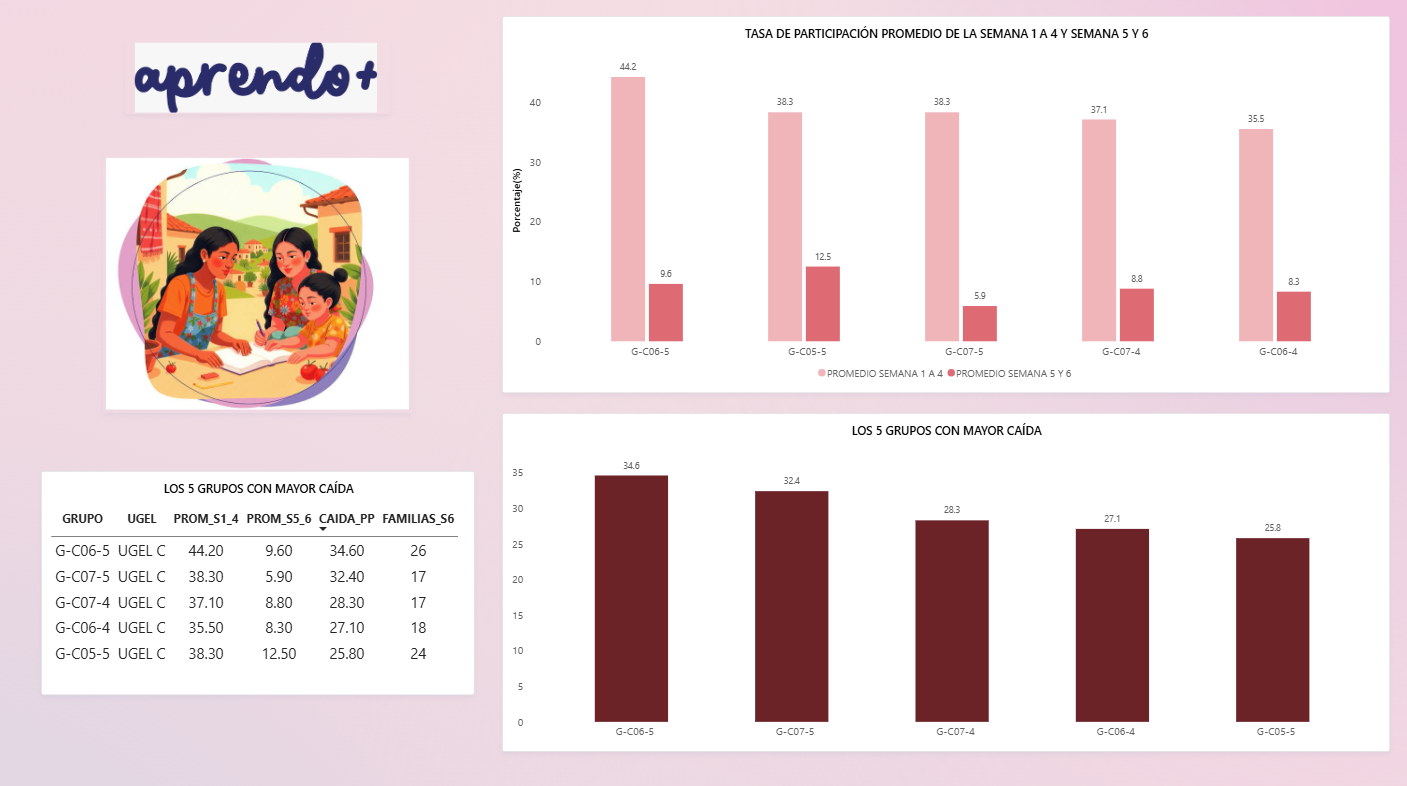

Layout of this report page (visuals, bound fields, positions):
{"tool":"powerbi","page":{"name":"part 1.2","canvas":[1920,1080],"ordinal":1},"visuals":[{"type":"cardVisual","fields":{"Data":["Sum(v_tps_ugel.Semana)"]},"box":[141.5,216.3,420.3,350.9],"z":0},{"type":"tableEx","title":"LOS 5 GRUPOS CON MAYOR CAÍDA","fields":{"Values":["v_tps_prom.grupo","v_tps_prom.ugel","v_tps_prom.prom_s1_4","v_tps_prom.prom_s5_6","v_tps_prom.caida_pp","v_tps_prom.familias_s6"]},"box":[57.1,646.1,590.3,304.7],"z":1000},{"type":"clusteredColumnChart","title":"TASA DE PARTICIPACIÓN PROMEDIO DE LA SEMANA 1 A 4 Y SEMANA 5 Y 6","fields":{"Category":["v_tps_prom.grupo"],"Y":["Sum(v_tps_prom.prom_s1_4)","Sum(v_tps_prom.prom_s5_6)"]},"box":[684.2,27.2,1207.9,512.8],"z":2000},{"type":"cardVisual","fields":{"Data":["Sum(v_tps_ugel.Semana)"]},"box":[171.4,62.6,360.5,97.9],"z":3000},{"type":"clusteredColumnChart","title":"LOS 5 GRUPOS CON MAYOR CAÍDA","fields":{"Category":["v_tps_prom.grupo"],"Y":["Sum(v_tps_prom.caida_pp)"]},"box":[684.2,567.2,1207.9,461.1],"z":4000}]}

Visuals, with their boxes in screenshot pixels (x1, y1, x2, y2), scaled from the page's 1920x1080 canvas onto the 1407x786 screenshot:
cardVisual - Sum(v_tps_ugel.Semana): x1=104 y1=157 x2=412 y2=413
"LOS 5 GRUPOS CON MAYOR CAÍDA" tableEx: x1=42 y1=470 x2=474 y2=692
"TASA DE PARTICIPACIÓN PROMEDIO DE LA SEMANA 1 A 4 Y SEMANA 5 Y 6" clusteredColumnChart: x1=501 y1=20 x2=1387 y2=393
cardVisual - Sum(v_tps_ugel.Semana): x1=126 y1=46 x2=390 y2=117
"LOS 5 GRUPOS CON MAYOR CAÍDA" clusteredColumnChart: x1=501 y1=413 x2=1387 y2=748
